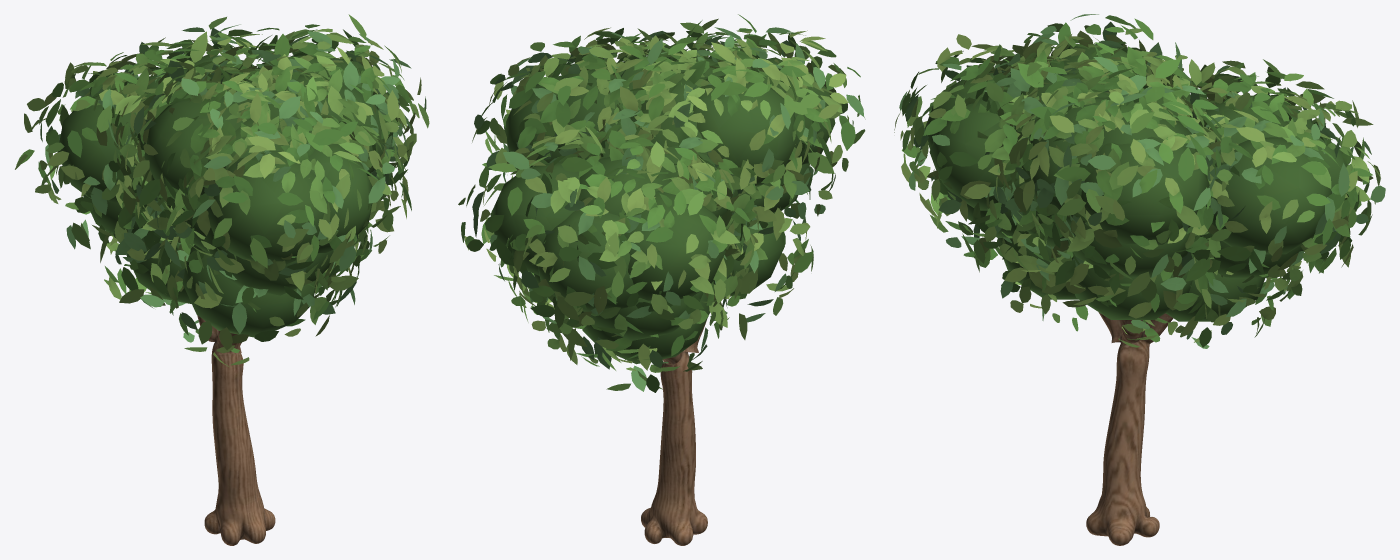
The model's file is tree_0.glb.
3 views of the same model, side by side, from view 1: azimuth 30°, elevation 25°; view 2: azimuth 150°, elevation 25°; view 3: azimuth 270°, elevation 25° (orthographic).
Parts seen in each view (by area): view 1: tree0_leaves, tree0_bark; view 2: tree0_leaves, tree0_bark; view 3: tree0_leaves, tree0_bark.
Boxes of the visible parts, bbox=[...] form: tree0_leaves: bbox=[15, 14, 429, 367]; tree0_bark: bbox=[197, 315, 275, 545]; tree0_leaves: bbox=[458, 14, 865, 392]; tree0_bark: bbox=[641, 320, 707, 545]; tree0_leaves: bbox=[894, 14, 1385, 348]; tree0_bark: bbox=[1086, 312, 1173, 545].
Bounding box in the file's own units: 3.14 × 4.56 × 4.13.
Materials: 2 (1 with a texture image).
